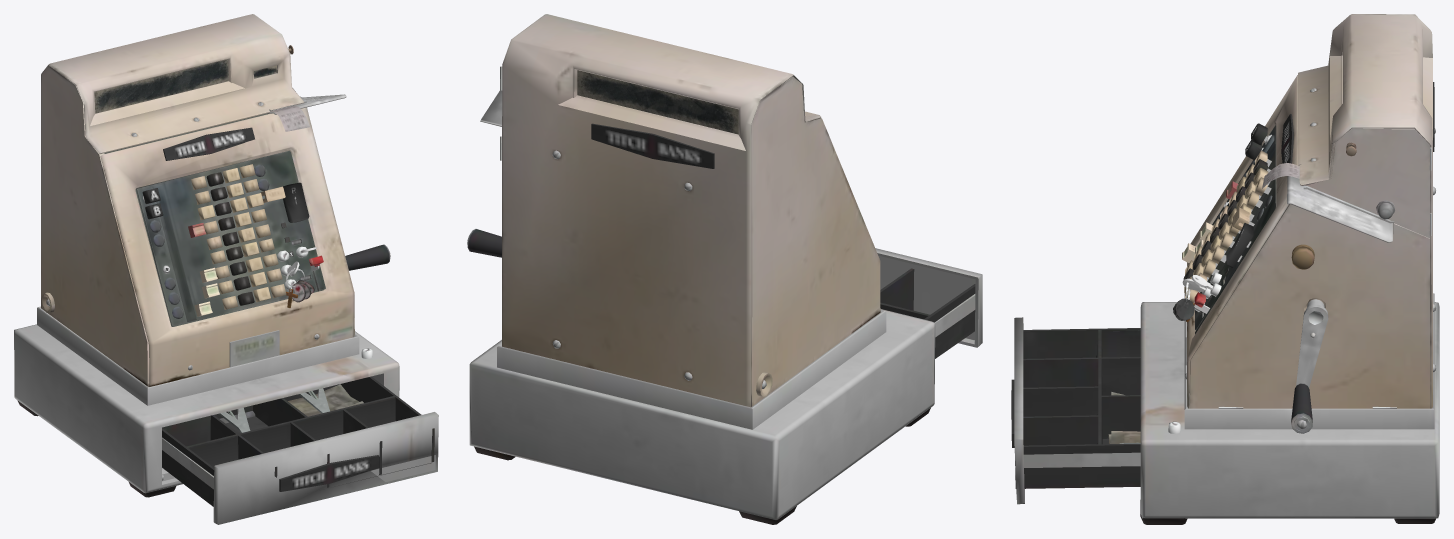
The model's file is CashRegister_01.glb.
3 renders of one model, left to right at view 1: azimuth 30°, elevation 25°; view 2: azimuth 150°, elevation 25°; view 3: azimuth 270°, elevation 25°, orthographic. The views are drawn at different scales.
Visible parts, largest first — view 1: CashRegister_01_body, CashRegister_011_drawer; view 2: CashRegister_01_body, CashRegister_011_drawer; view 3: CashRegister_01_body, CashRegister_011_drawer.
Part boxes in pixels (left/top/right/bottom): CashRegister_01_body: left=14, top=14, right=399, bottom=497; CashRegister_011_drawer: left=162, top=376, right=438, bottom=524; CashRegister_01_body: left=467, top=14, right=935, bottom=524; CashRegister_011_drawer: left=875, top=248, right=982, bottom=358; CashRegister_01_body: left=1140, top=14, right=1439, bottom=524; CashRegister_011_drawer: left=1011, top=317, right=1140, bottom=504.
Size of the model in its own units: 0.6005 by 0.6211 by 0.6242.
2 materials, 2 textured.
